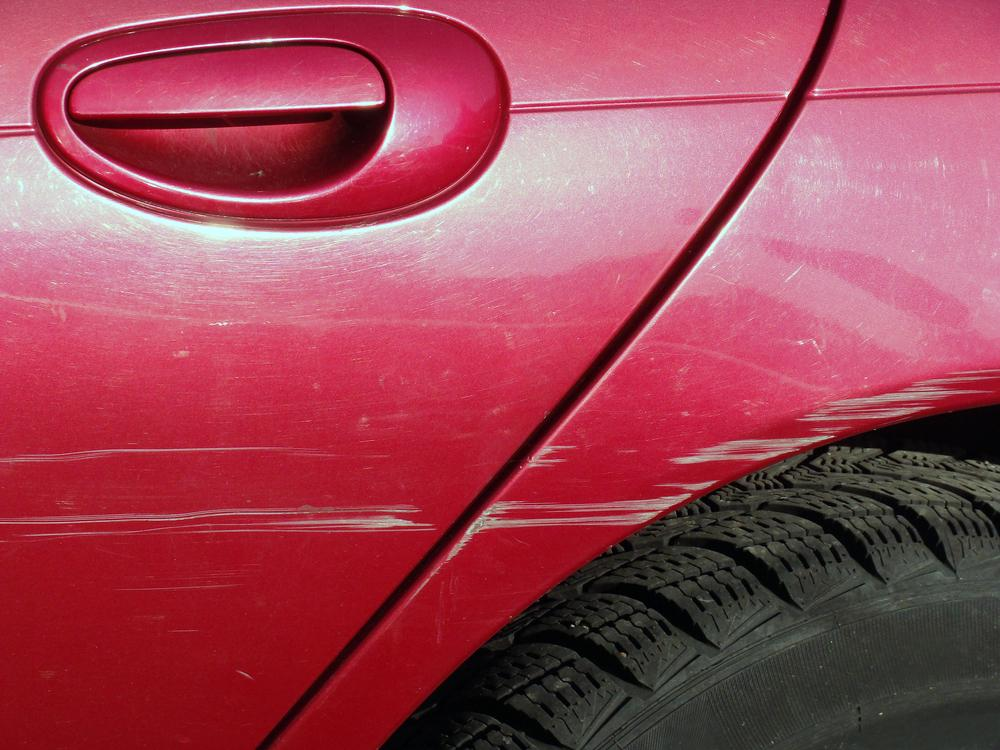scratch: (405, 365, 1000, 600), (0, 437, 440, 546)
